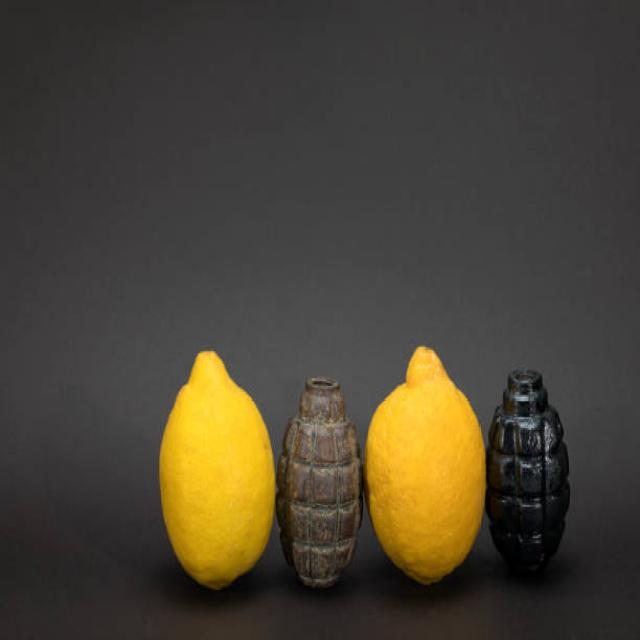grenade: (484, 358, 575, 581), (273, 374, 365, 591)
